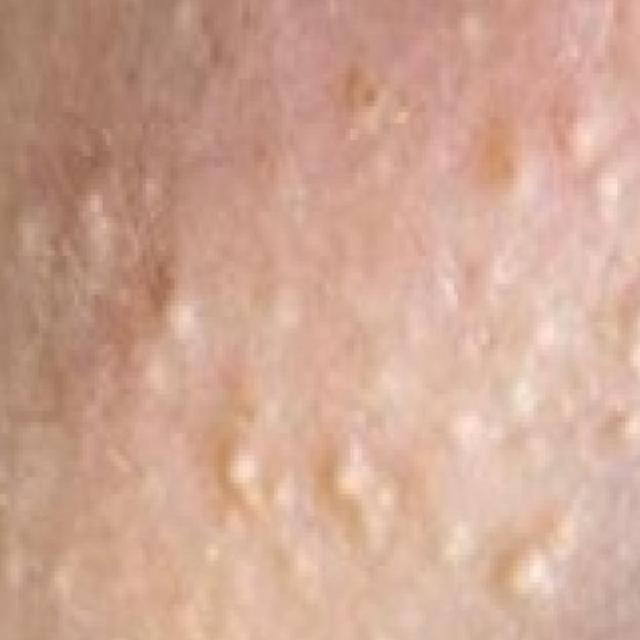whitehead: (0, 34, 640, 615)
